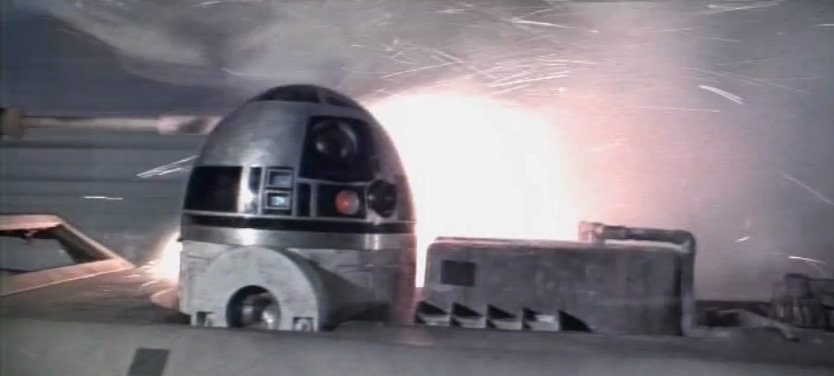r2d2: (177, 84, 417, 333)
